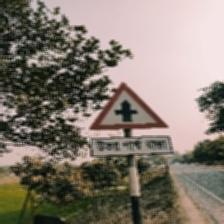Crossroad: (88, 82, 173, 156)
